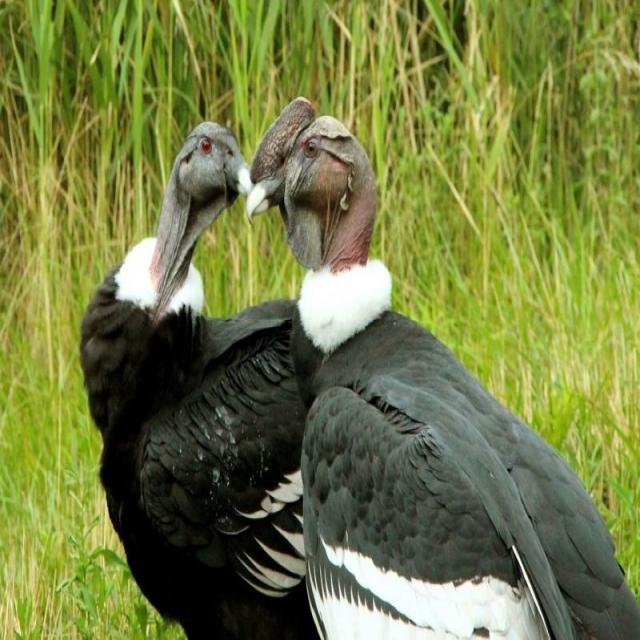Carnivorous: (246, 100, 640, 640), (80, 122, 320, 640)
